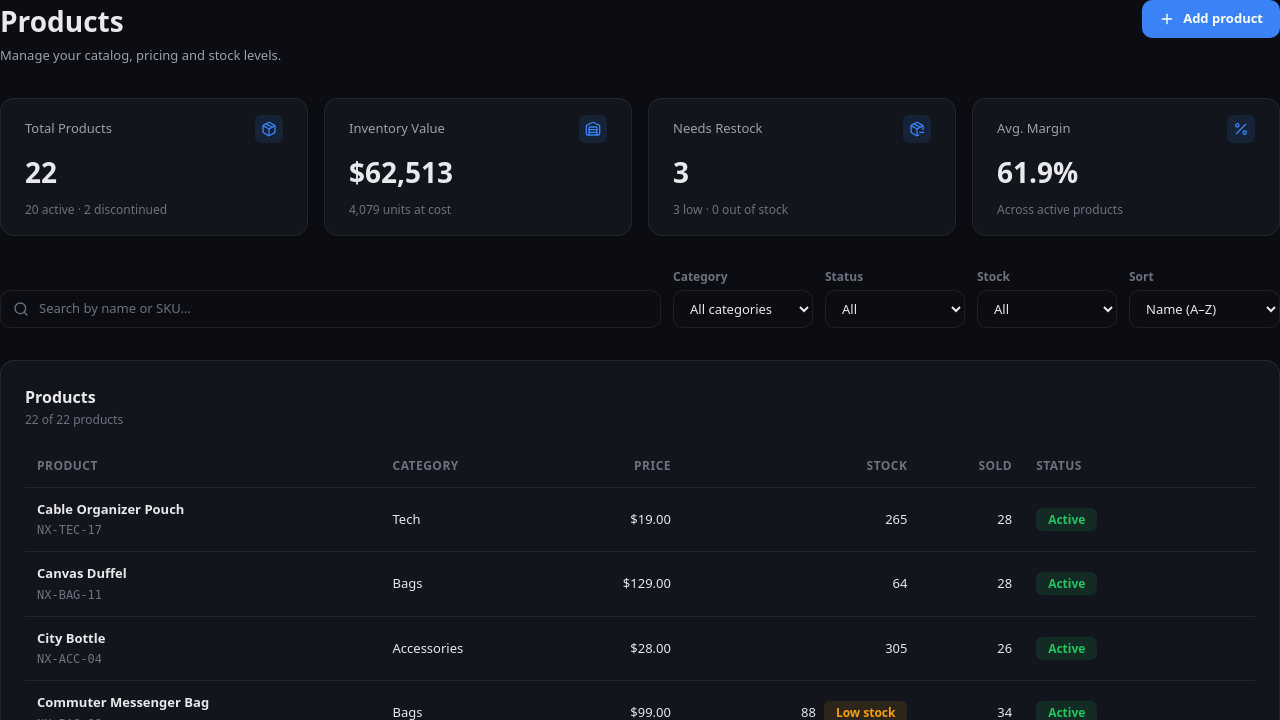
Test case: Products page: details drawer › shows product information, pricing, stock and sales derived from orders
Type "Rolling Carry-On" into the search field named "search products" at [342, 309], box [37, 298, 648, 319]
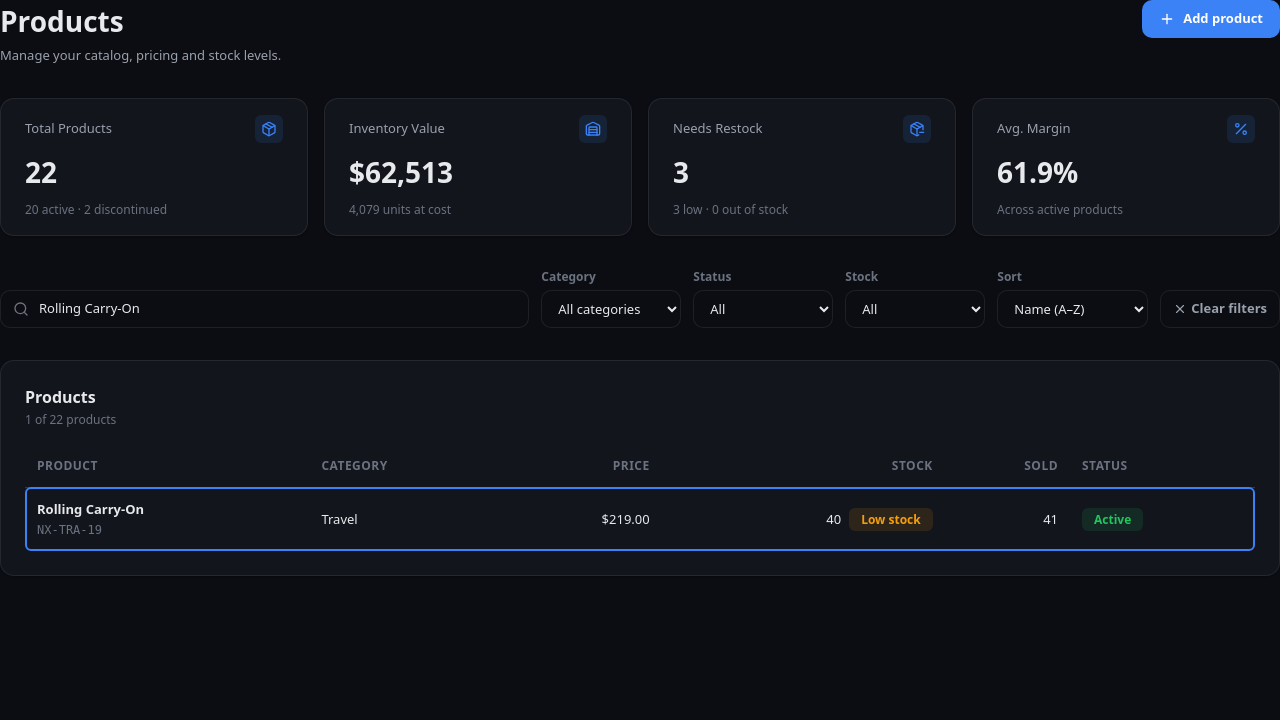
Click the button with aria-label "View product " at [91, 509], box [37, 500, 144, 519]
(page scrolled)
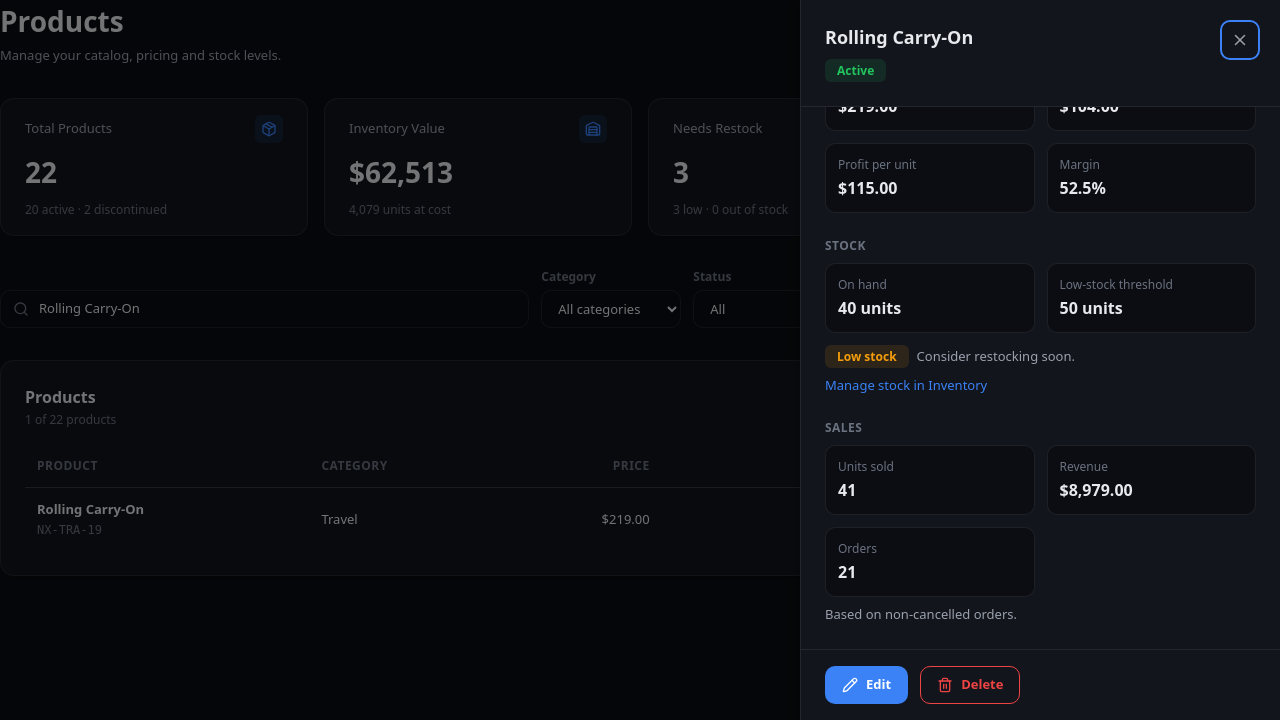
Result: the text "$219.00" is shown at [838, 95, 898, 117]
Result: the text "$104.00" is shown at [1060, 95, 1119, 117]
Result: the text "$115.00" is shown at [838, 177, 898, 199]
